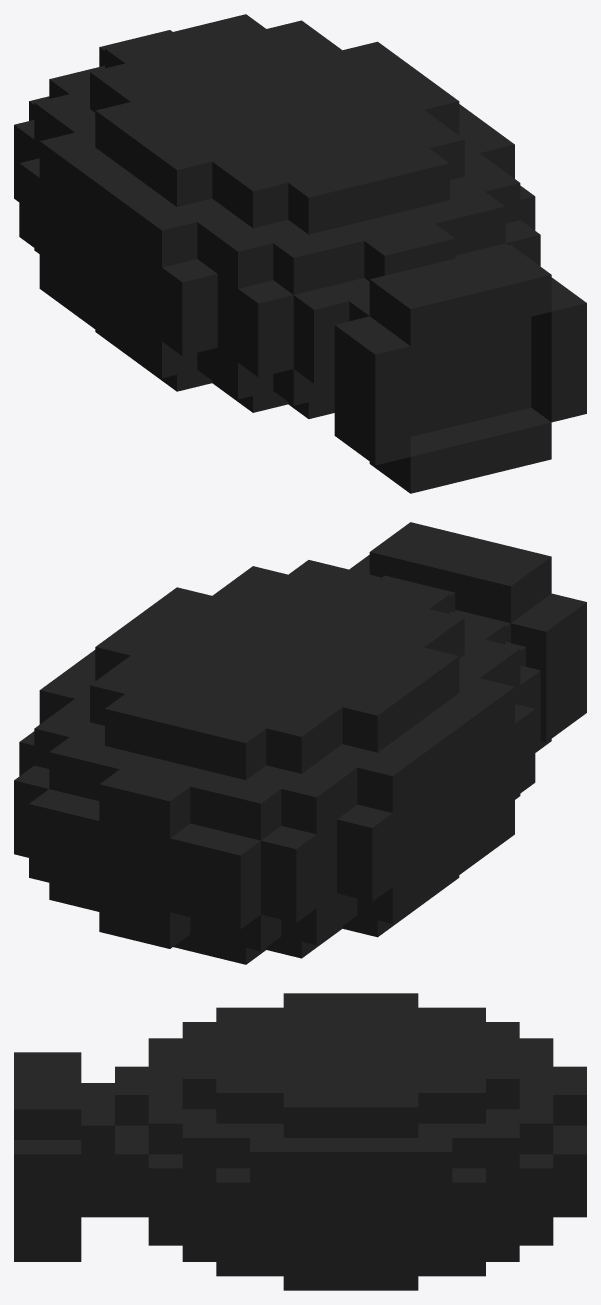
File: Light.fbx
3 renders of one model, top to bottom at view 1: azimuth 30°, elevation 25°; view 2: azimuth 150°, elevation 25°; view 3: azimuth 270°, elevation 25°, orthographic. The views are drawn at different scales.
Parts seen in each view (by area): view 1: Light; view 2: Light; view 3: Light.
Boxes of the visible parts, left/top/right/bottom form: Light: left=14, top=14, right=586, bottom=493; Light: left=14, top=522, right=586, bottom=964; Light: left=14, top=993, right=586, bottom=1290.
Size of the model in its own units: 10 by 6 by 17.
1 material, 1 textured.
